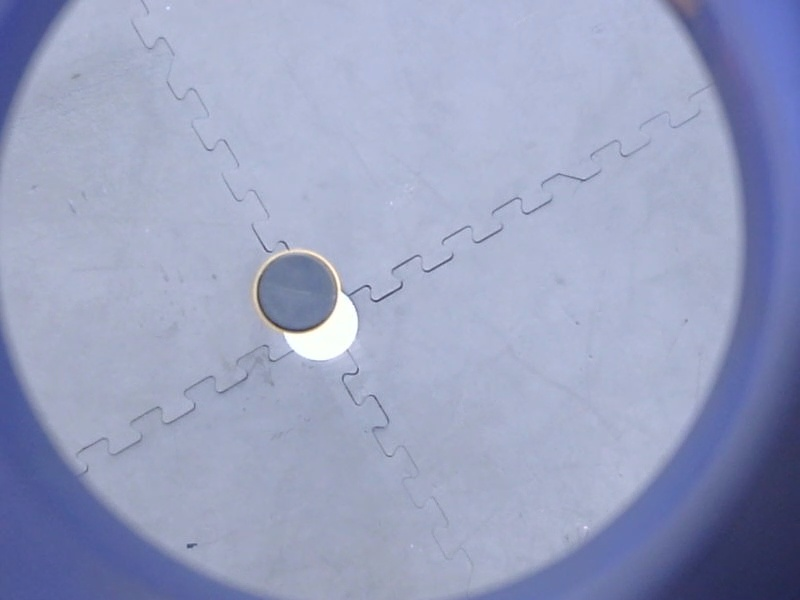tip: (247, 245, 347, 339)
